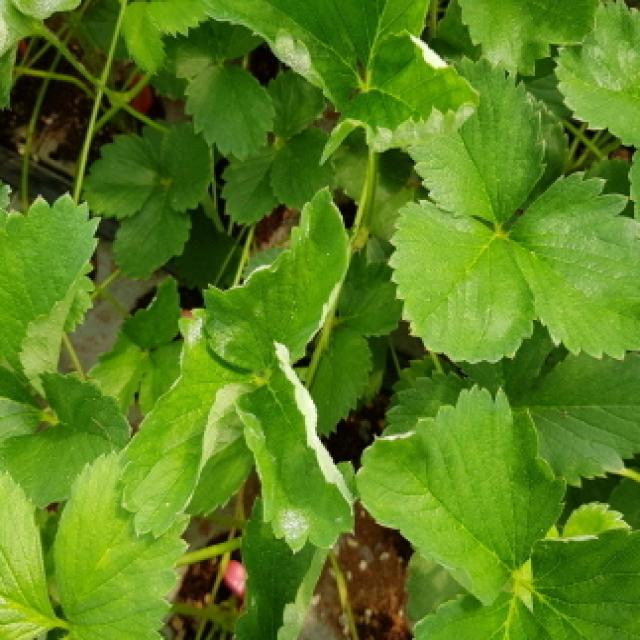Powdery Mildew Leaf: (352, 382, 571, 608), (115, 306, 261, 543), (200, 183, 350, 373), (233, 341, 356, 555), (319, 29, 481, 166), (203, 0, 360, 109), (525, 524, 640, 640), (552, 0, 640, 148), (10, 0, 80, 19)
